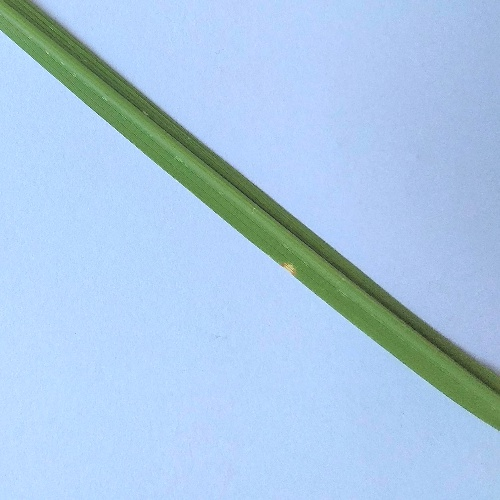Busuk Leher: (272, 252, 301, 284)
